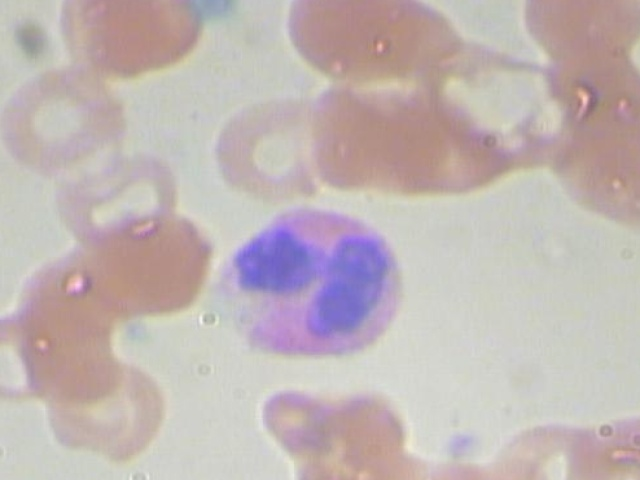Platelets: (433, 421, 489, 461), (189, 0, 248, 19)
RBC: (72, 197, 225, 333), (193, 81, 345, 217), (45, 115, 197, 251), (0, 42, 142, 179), (274, 0, 466, 87), (378, 74, 507, 199), (11, 291, 142, 408), (41, 347, 172, 464), (9, 231, 139, 348), (31, 0, 208, 79), (502, 0, 640, 74), (0, 298, 73, 415), (483, 411, 600, 480), (600, 119, 640, 244), (588, 411, 640, 480), (632, 369, 640, 469)
WBC: (210, 196, 423, 380)
